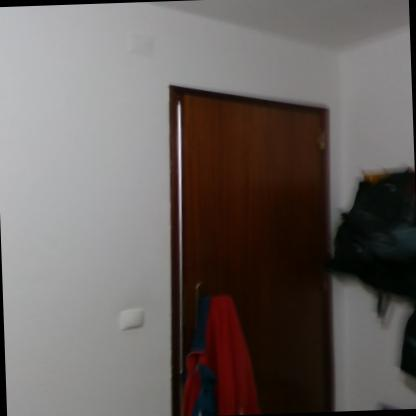closed: (147, 72, 371, 416)
